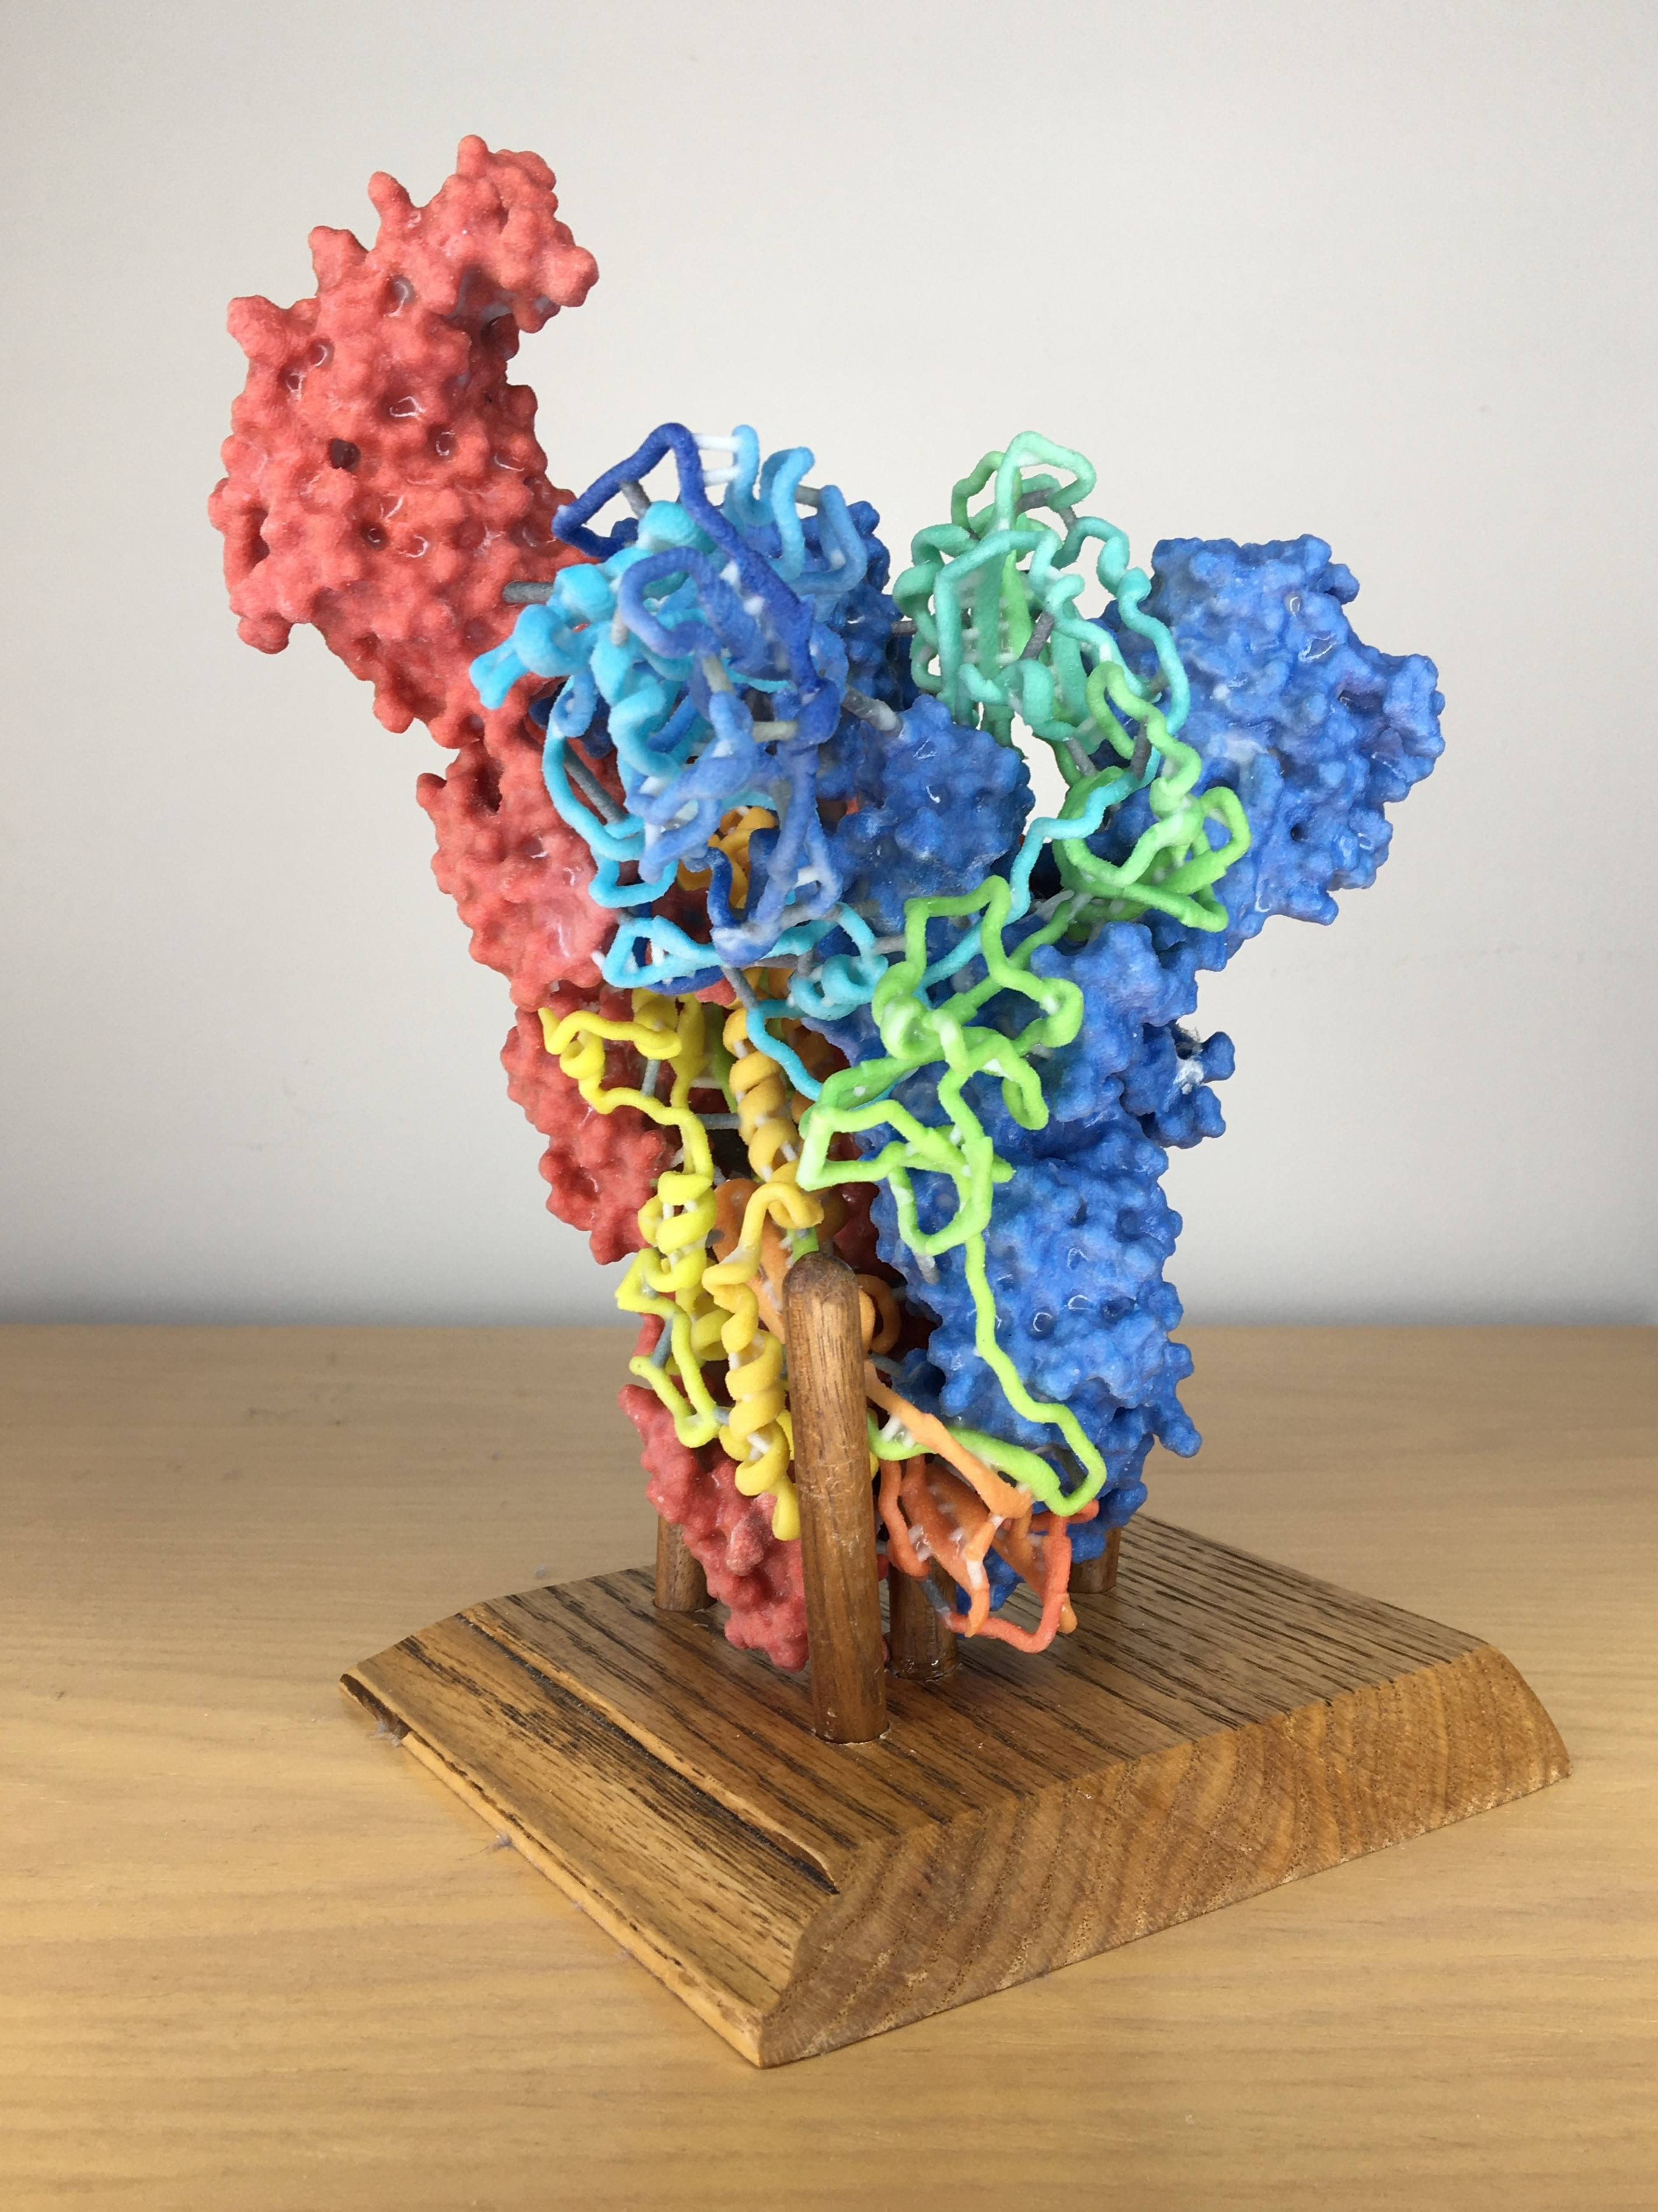COVID19: (221, 78, 1463, 1470)
